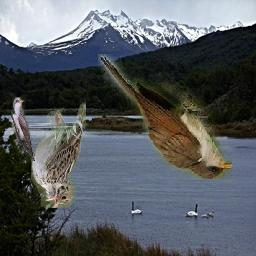Cuckoo: (98, 55, 232, 180), (11, 97, 35, 161)
Sparrow: (32, 100, 87, 209)
